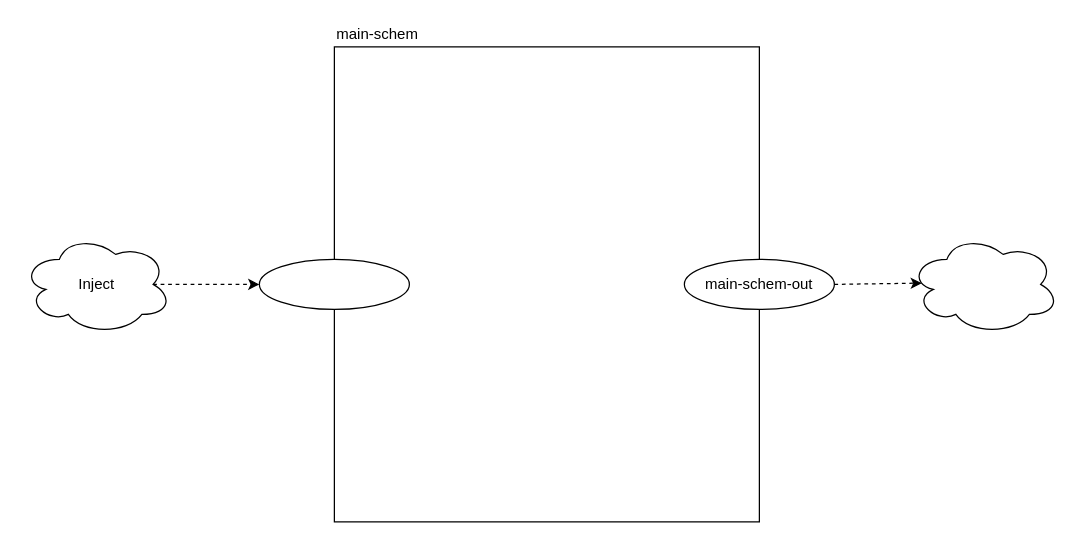
The diagram is 1081 pixels wide and 544 high, and some of its shapes have lost their labels. Here are the shapes that lost their labels. From the top down, the centre of each, then its label:
the point at 333,283: main-schem-in
the point at 983,283: Observe
